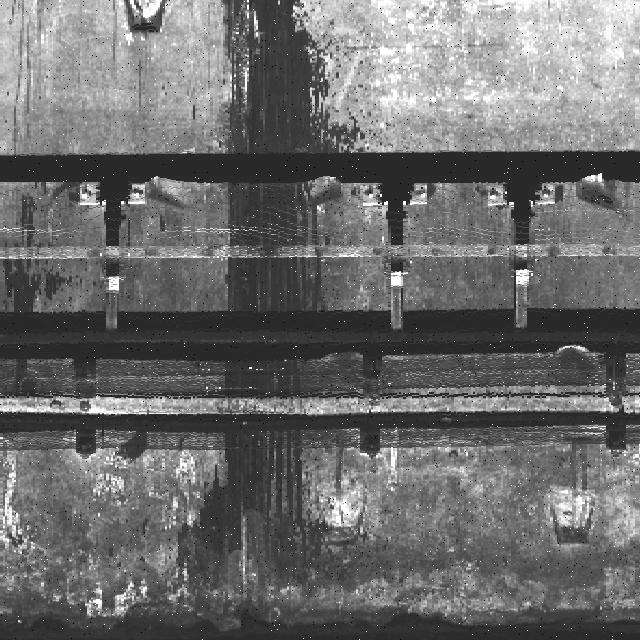leakage: (177, 1, 343, 576)
